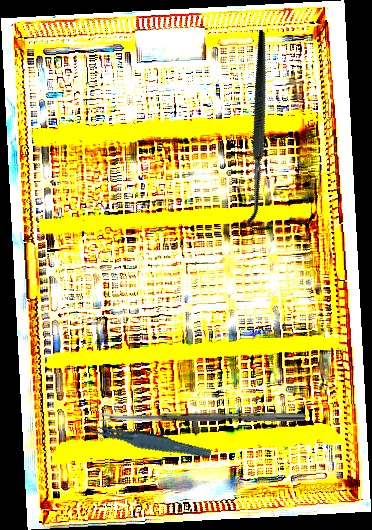Hook Surgical: (171, 29, 357, 238)
Surgical Spoon: (100, 412, 305, 421)
Tissue Forceps: (82, 413, 213, 468)
